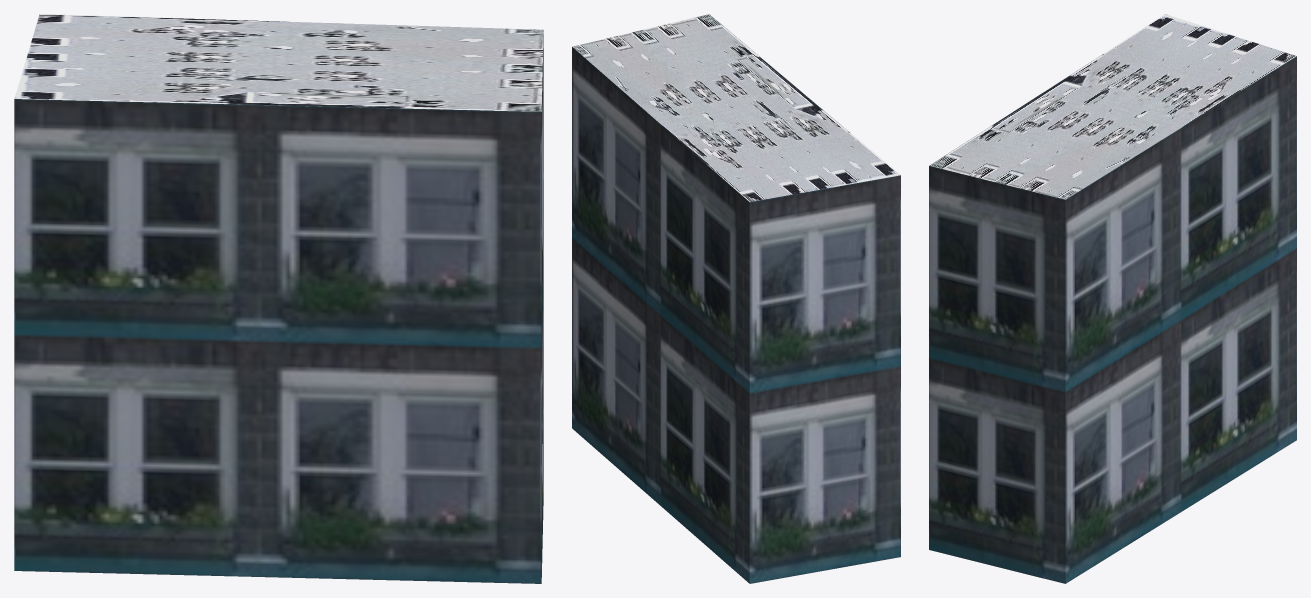
Rendered from ResTex__2418.fbx.
The picture shows the model from 3 angles, left to right: view 1: azimuth 30°, elevation 25°; view 2: azimuth 150°, elevation 25°; view 3: azimuth 270°, elevation 25°; orthographic projection. The views are drawn at different scales.
Parts seen in each view (by area): view 1: CityEngineMaterial_11_m, CityEngineMaterial_m; view 2: CityEngineMaterial_11_m, CityEngineMaterial_m; view 3: CityEngineMaterial_11_m, CityEngineMaterial_m.
Part boxes in pixels (<box>): CityEngineMaterial_11_m: <box>14,34,543,583</box>; CityEngineMaterial_m: <box>14,14,543,111</box>; CityEngineMaterial_11_m: <box>572,47,900,583</box>; CityEngineMaterial_m: <box>572,14,900,201</box>; CityEngineMaterial_11_m: <box>929,56,1296,583</box>; CityEngineMaterial_m: <box>929,14,1296,199</box>.
Bounding box in the file's own units: 6.22 × 6 × 5.21.
Materials: 2 (2 with a texture image).
